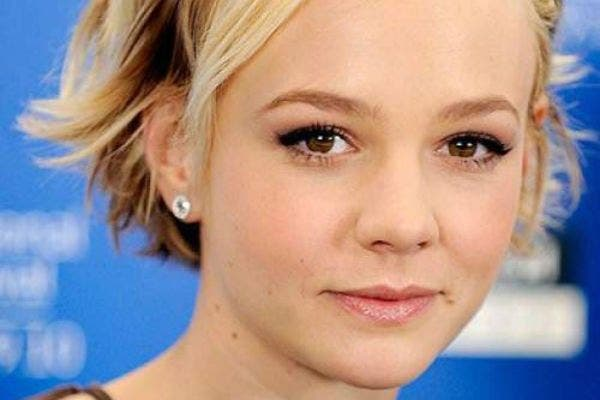without_mask: (206, 37, 536, 364)
